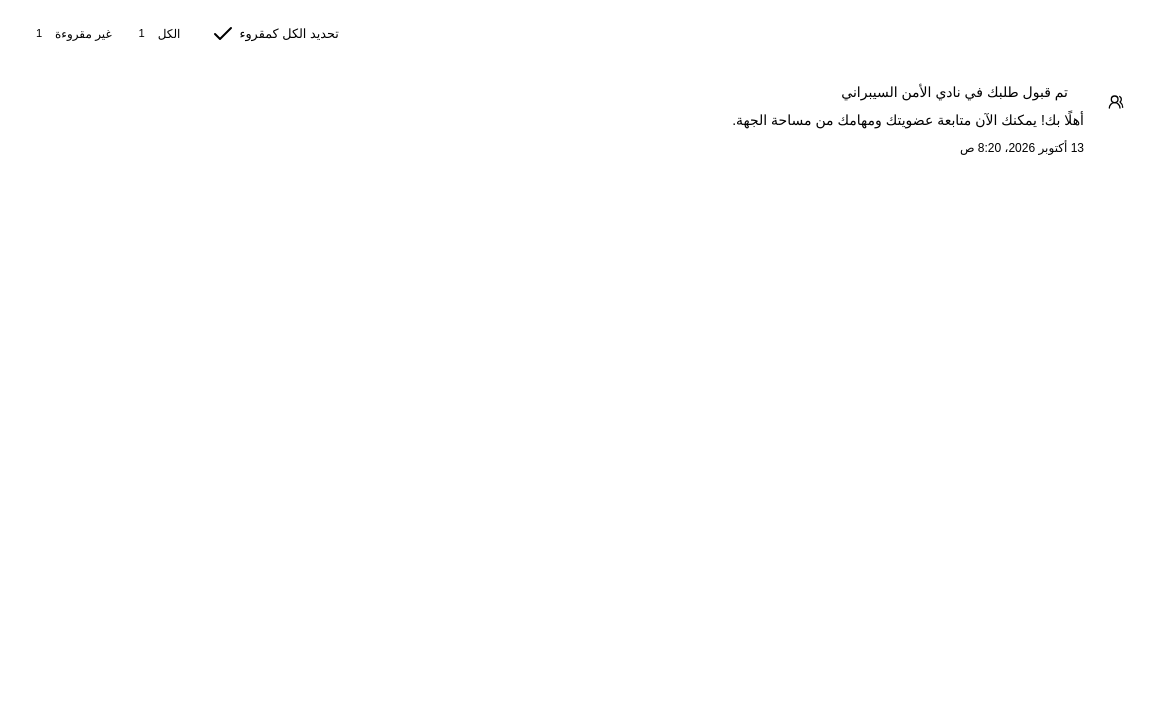
Test: marks an unlinked notification read without navigating
Click the button "تم قبول طلبك في نادي الأمن السيبراني" at (955, 92), box [12, 76, 1140, 160]
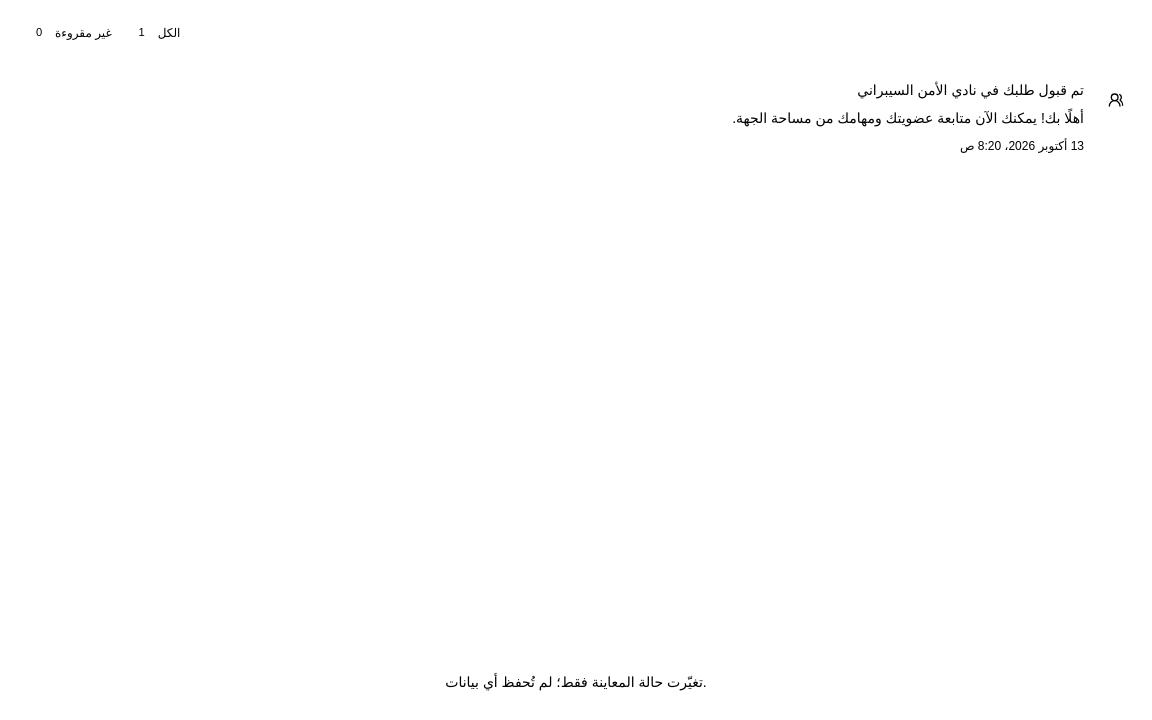
Check: the text "تغيّرت حالة المعاينة فقط؛ لم تُحفظ أي بيانات." is shown, box [445, 674, 707, 690]
